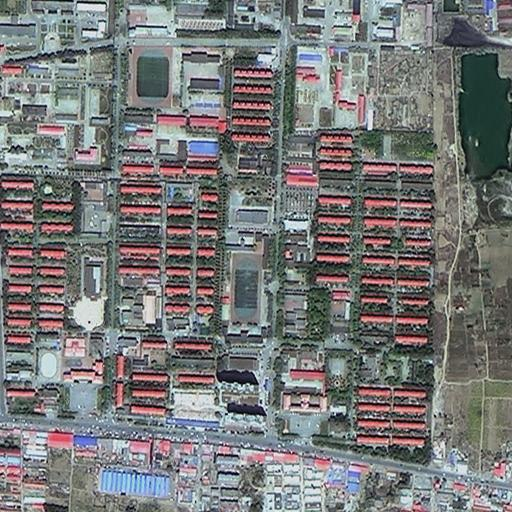school: (123, 41, 225, 115), (223, 229, 269, 334)
